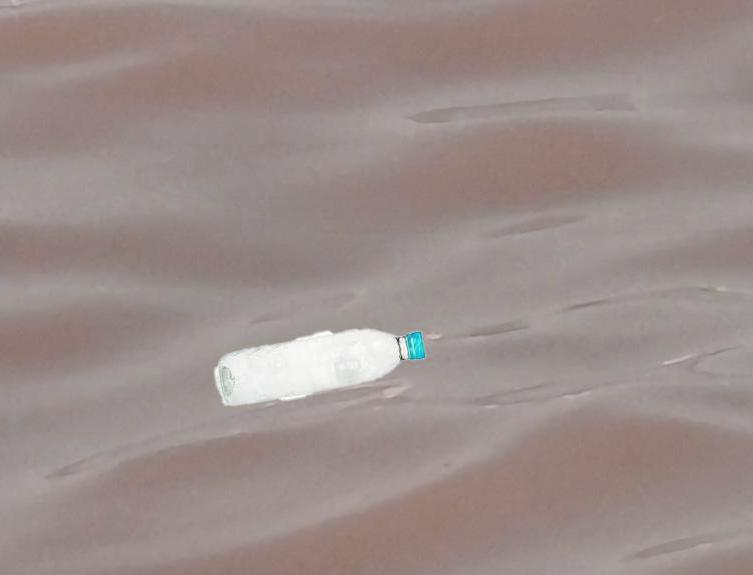Plastic: (212, 325, 426, 411)
